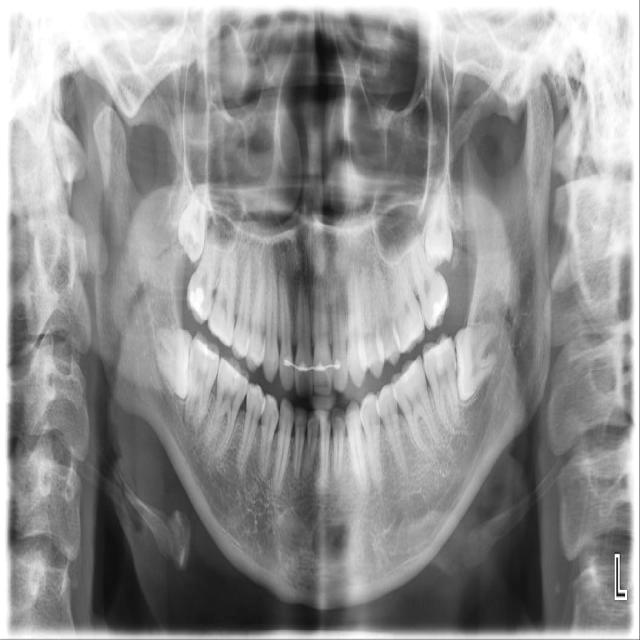Filling: (186, 286, 207, 319), (426, 296, 447, 327)
impacted tooth: (455, 319, 501, 404), (150, 317, 190, 398), (423, 171, 453, 263), (178, 179, 207, 261)
